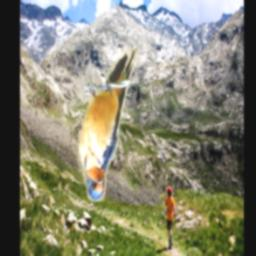Swallow: (79, 46, 139, 202)
